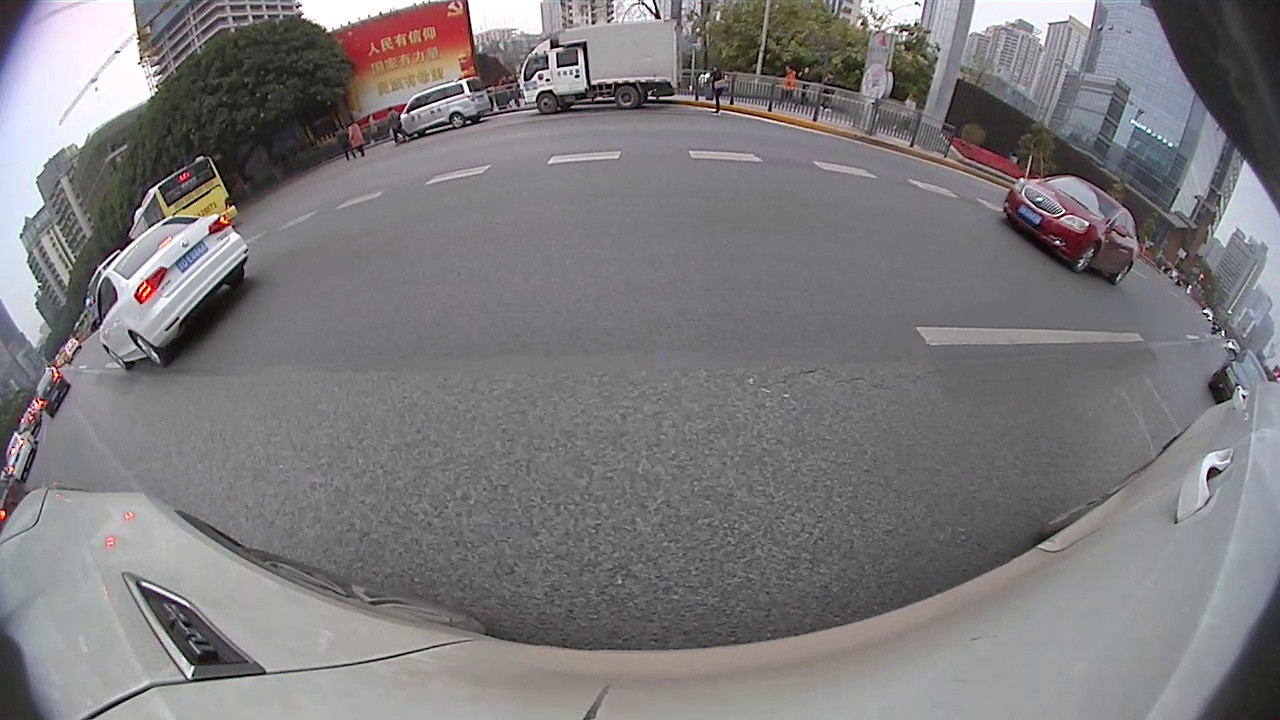bus: (124, 154, 238, 232)
car: (92, 208, 250, 372), (1002, 171, 1139, 285), (387, 74, 490, 143), (1206, 348, 1266, 405), (4, 427, 36, 482), (32, 366, 68, 414)
front: (1071, 242, 1099, 273), (106, 346, 129, 370), (536, 92, 558, 113), (393, 132, 408, 144)
person: (386, 105, 399, 145), (348, 122, 360, 159), (713, 65, 722, 114)
rear: (133, 333, 167, 367), (613, 85, 636, 108), (1114, 262, 1135, 286), (451, 114, 465, 128)
rider: (336, 124, 348, 163)
truck: (519, 20, 685, 115)
